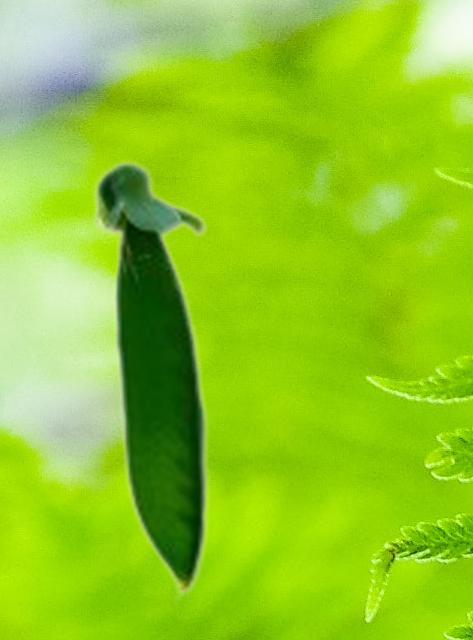pea: (90, 157, 209, 603)
